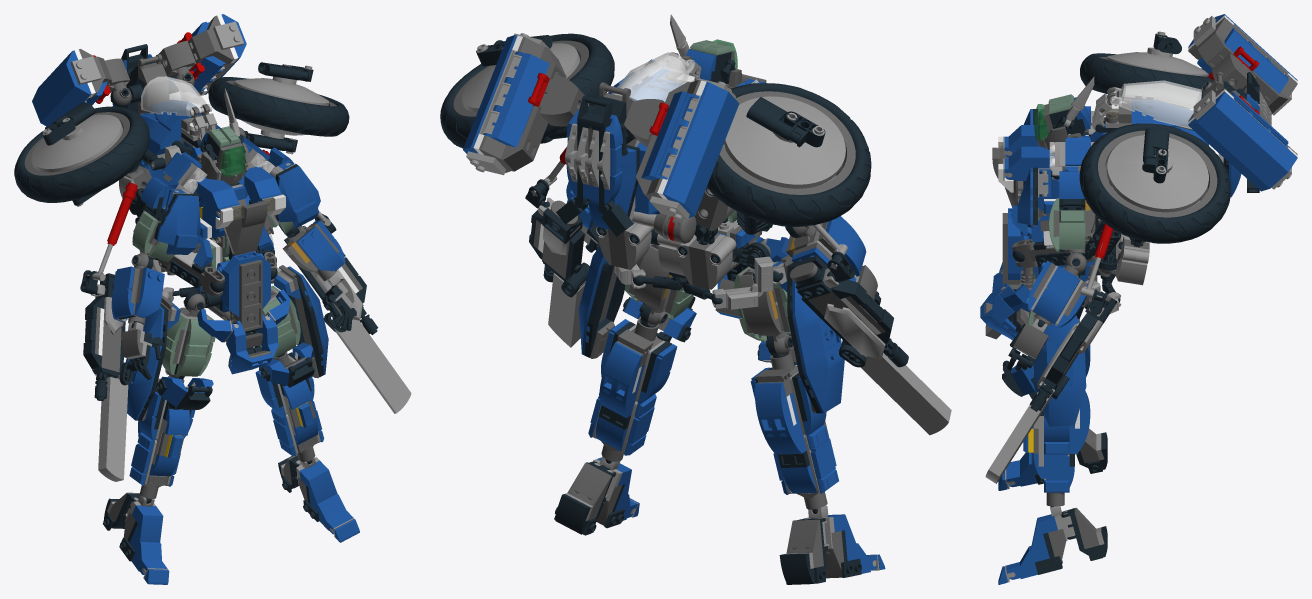
File: vr-041h-saber-armor.dae
The picture shows the model from 3 angles, left to right: view 1: azimuth 30°, elevation 25°; view 2: azimuth 150°, elevation 25°; view 3: azimuth 270°, elevation 25°; orthographic projection. The views are drawn at different scales.
Bounding box in the file's own units: 601 × 492 × 826.
